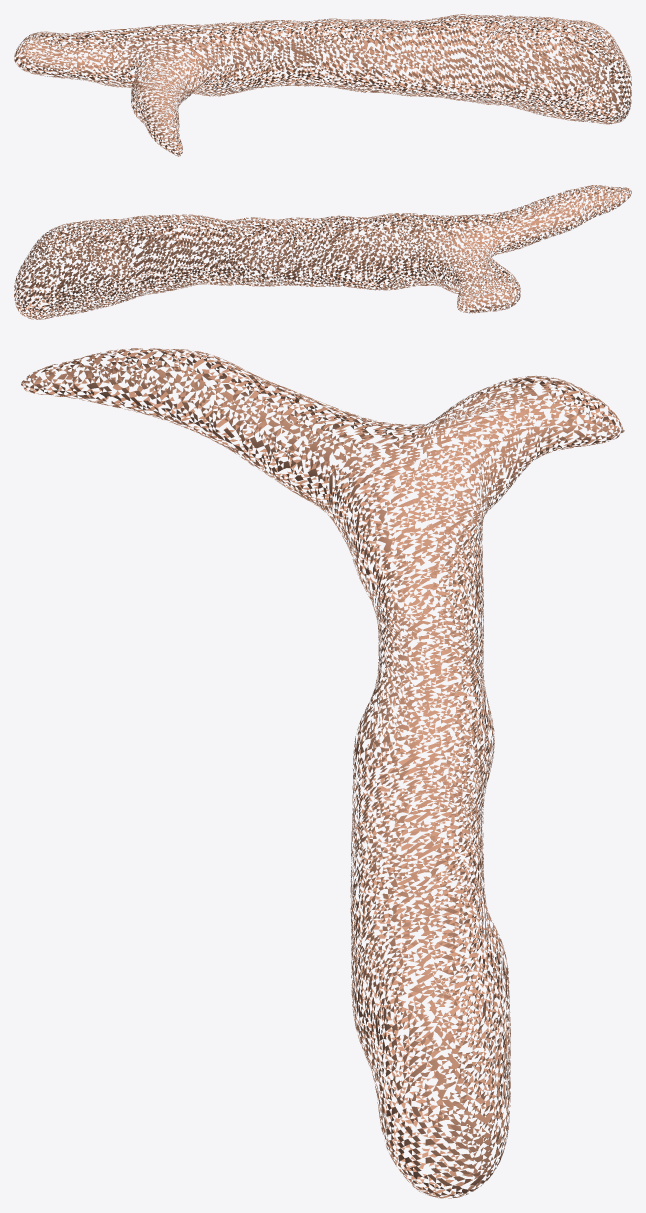
The model's file is morph_004.glb.
3 views of the same model, one above another, from view 1: azimuth 30°, elevation 25°; view 2: azimuth 150°, elevation 25°; view 3: azimuth 270°, elevation 25° (orthographic). The views are drawn at different scales.
Size of the model in its own units: 133 by 47.23 by 67.13.
